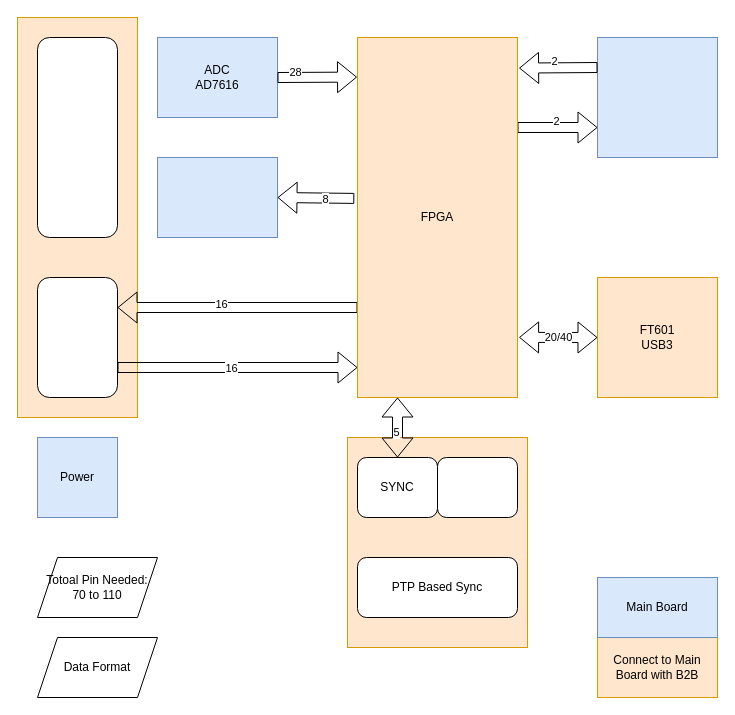
The diagram is 735 pixels wide and 715 high, and some of its shapes have lost their labels. The centre of each missing label's shape, as x and y in pixels:
"AFE" belongs at [77,137].
"Board2Board LVDS TX/TXCK RX/RXCK" belongs at [657,97].
"DAC AD5766" belongs at [217,197].
"DFE" belongs at [77,337].
"SlaveID" belongs at [477,487].
